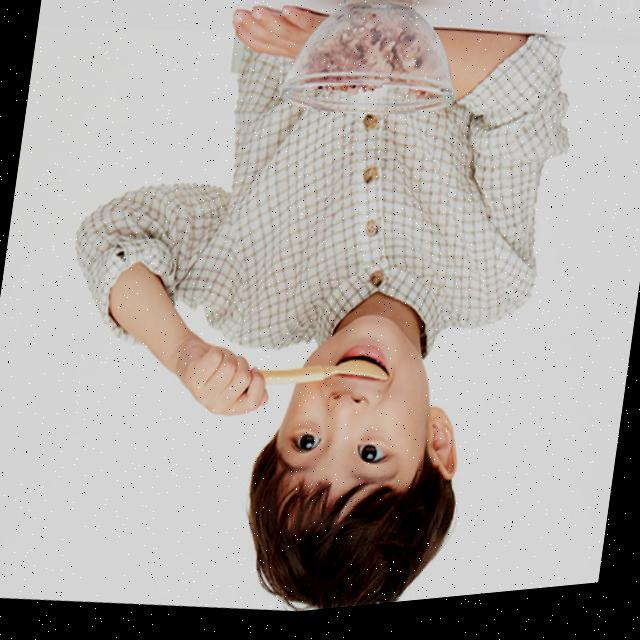eating-person: (23, 0, 601, 638)
